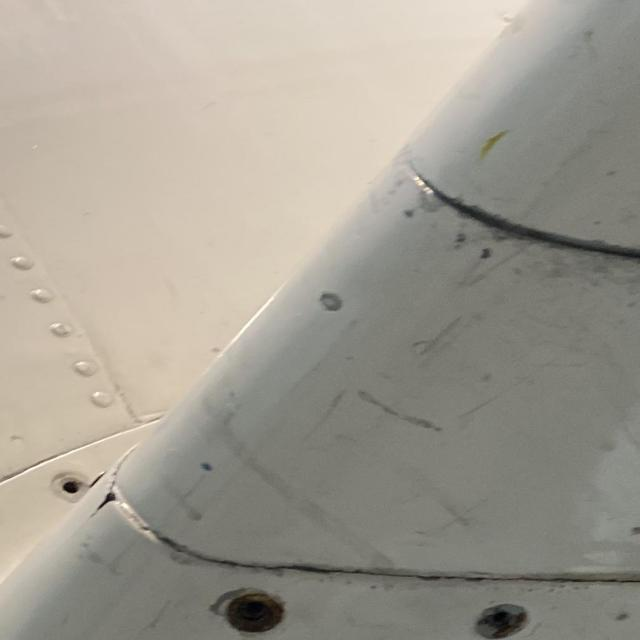Crack: (92, 488, 130, 514), (0, 487, 0, 487)
Missing-head: (220, 590, 284, 632), (474, 603, 528, 638), (55, 474, 91, 499)
Paint-off: (316, 289, 343, 309)
